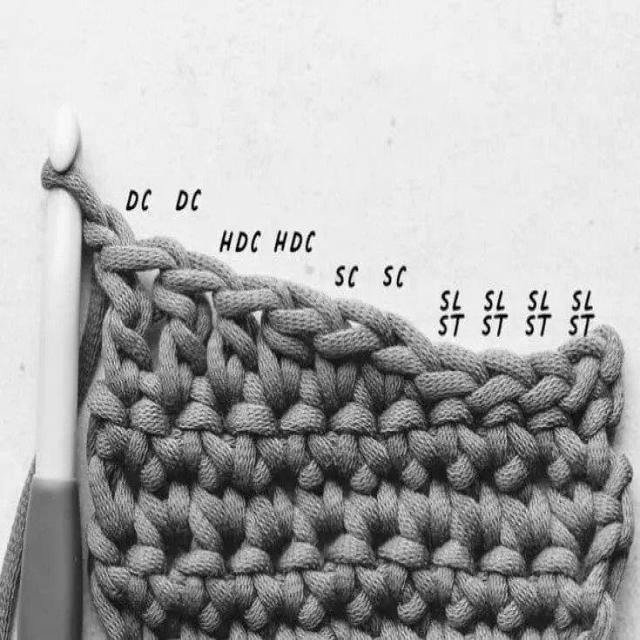ch: (462, 347, 538, 410), (515, 351, 577, 414), (413, 344, 483, 397), (562, 336, 605, 406), (81, 205, 136, 250)
dc: (95, 234, 190, 400), (155, 256, 244, 406)
hdc: (257, 279, 341, 406), (208, 275, 291, 399)
sc: (312, 298, 394, 406), (224, 367, 284, 487), (366, 311, 443, 404), (327, 501, 389, 608), (275, 366, 334, 472), (187, 451, 245, 557), (177, 371, 232, 477), (123, 371, 180, 473), (328, 378, 388, 474), (88, 415, 133, 543), (378, 378, 438, 472), (277, 509, 333, 609), (445, 455, 502, 552), (84, 524, 131, 639), (172, 533, 236, 615), (495, 454, 549, 551), (131, 456, 188, 547), (543, 456, 593, 554), (242, 456, 295, 548), (396, 458, 450, 544), (428, 397, 491, 469), (232, 531, 284, 611), (377, 522, 432, 597), (481, 403, 539, 470), (482, 549, 541, 613), (433, 540, 484, 612), (349, 457, 396, 534), (534, 547, 588, 613), (124, 544, 179, 608), (532, 408, 586, 470), (296, 462, 345, 529)
